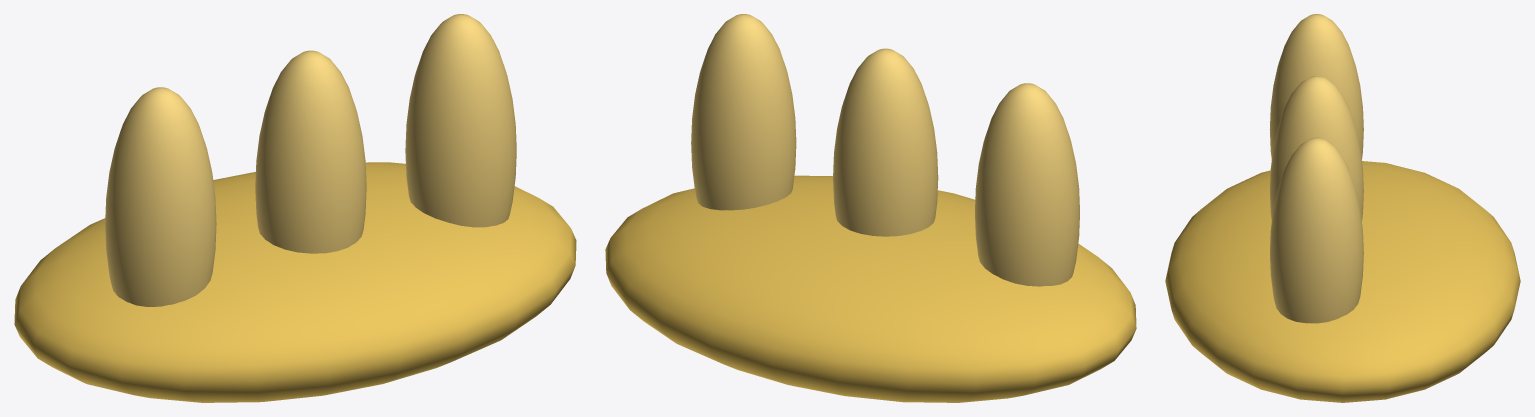
The model's file is crown.glb.
3 views of the same model, side by side, from view 1: azimuth 30°, elevation 25°; view 2: azimuth 150°, elevation 25°; view 3: azimuth 270°, elevation 25° (orthographic). The views are drawn at different scales.
Parts seen in each view (by area): view 1: Item_crown; view 2: Item_crown; view 3: Item_crown.
Part boxes in pixels (left/top/right/bottom): Item_crown: left=14, top=14, right=576, bottom=402; Item_crown: left=605, top=14, right=1136, bottom=402; Item_crown: left=1165, top=14, right=1520, bottom=402.
Bounding box in the file's own units: 0.98 × 0.55 × 0.68.
